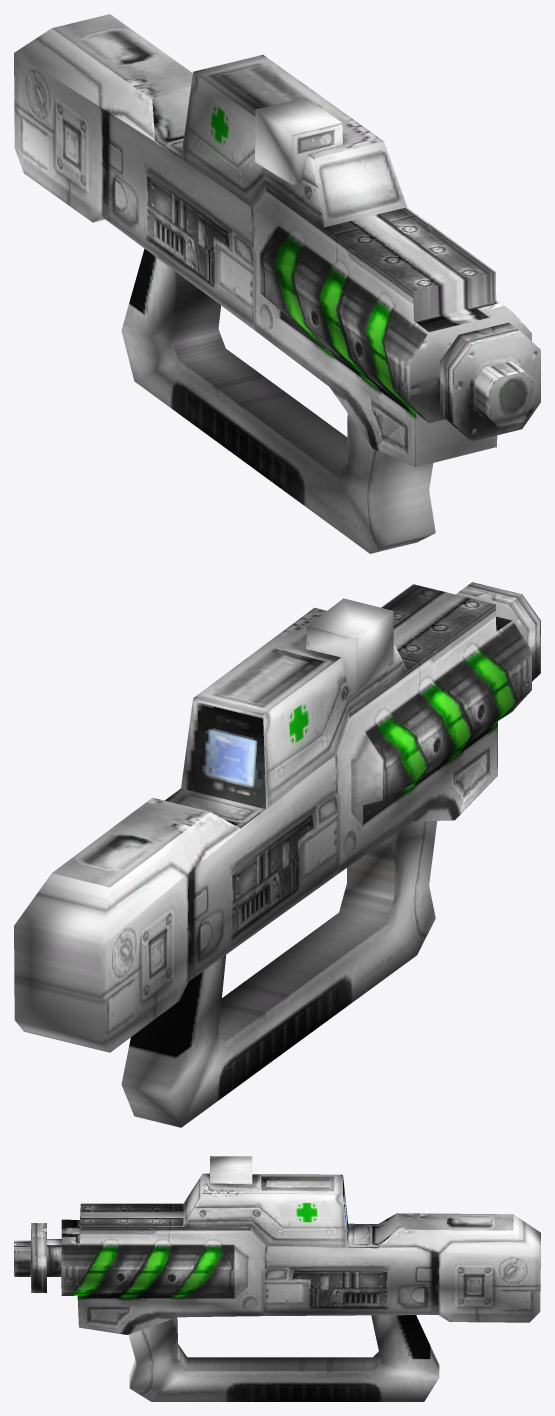
The picture shows the model from 3 angles, top to bottom: view 1: azimuth 30°, elevation 25°; view 2: azimuth 150°, elevation 25°; view 3: azimuth 270°, elevation 25°; orthographic projection. The views are drawn at different scales.
Visible parts, largest first — view 1: Prometheus; view 2: Prometheus; view 3: Prometheus.
Boxes of the visible parts, x1,y1,x2,y2 form: Prometheus: (14, 14, 540, 553); Prometheus: (14, 582, 540, 1127); Prometheus: (14, 1156, 540, 1401).
Size of the model in its own units: 5.14 by 15.54 by 32.99.
1 material, 1 textured.
